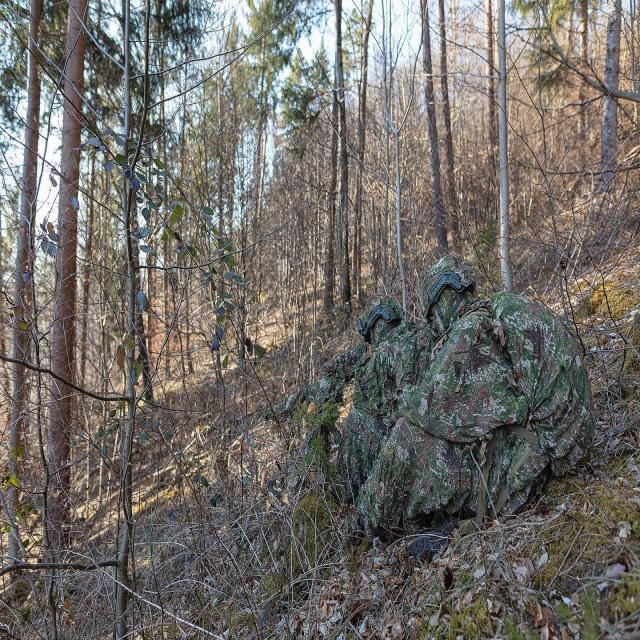Camouflage: (348, 254, 592, 536), (337, 296, 436, 504)
